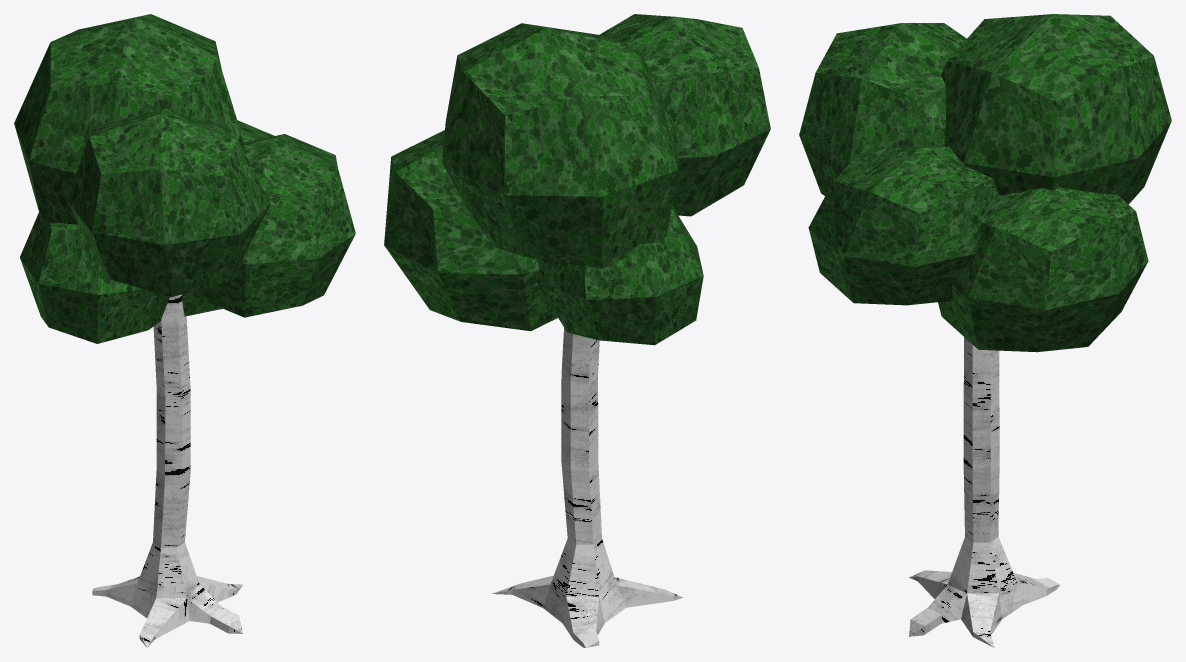
The model's file is birch.glb.
3 views of the same model, side by side, from view 1: azimuth 30°, elevation 25°; view 2: azimuth 150°, elevation 25°; view 3: azimuth 270°, elevation 25° (orthographic). The views are drawn at different scales.
Visible parts, largest first — view 1: Cylinder; view 2: Cylinder; view 3: Cylinder.
Boxes of the visible parts, x1,y1,x2,y2 form: Cylinder: (14,14,355,647); Cylinder: (384,14,770,647); Cylinder: (799,14,1171,647).
Size of the model in its own units: 8.15 by 16.11 by 9.02.
2 materials, 2 textured.
